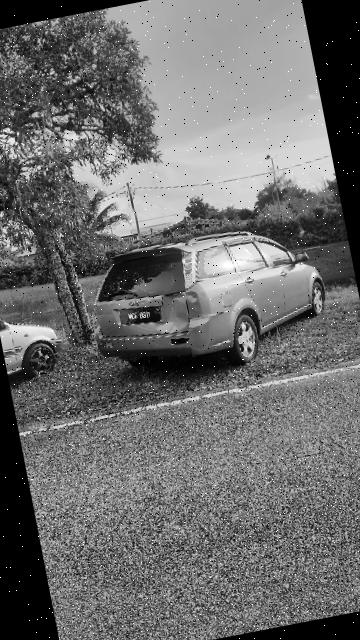License_Plate: (116, 302, 164, 331)
car: (78, 207, 338, 388)
